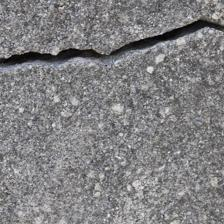Crack: (2, 8, 219, 70)
